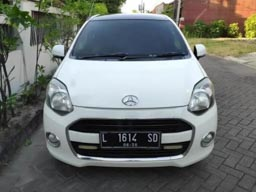plat: (101, 133, 160, 143)
